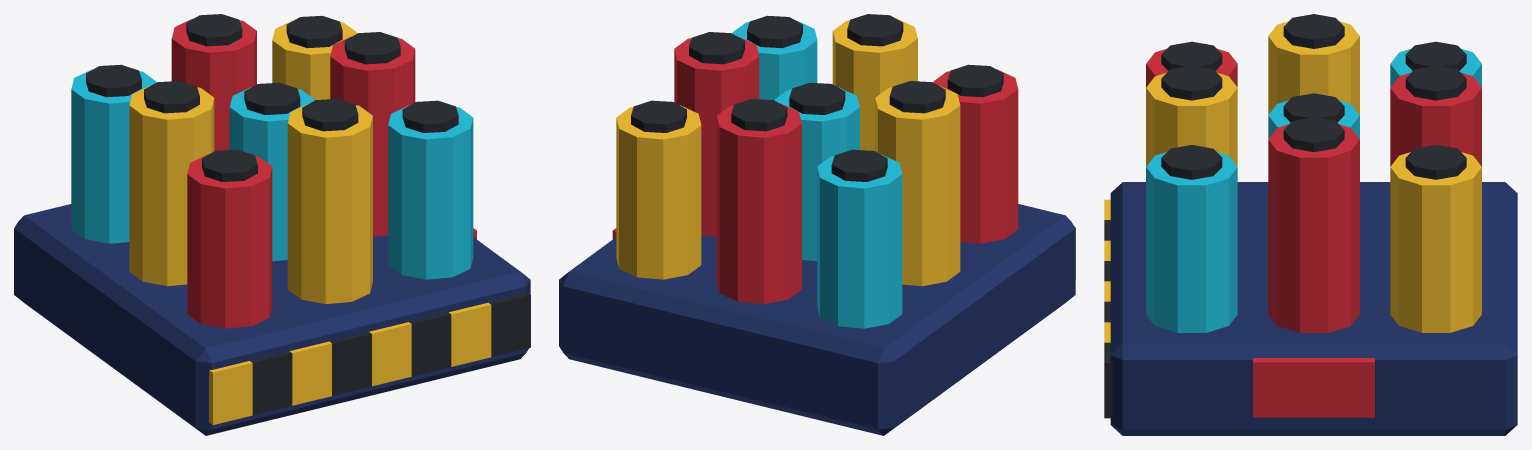
File: FireworkLauncher.fbx
The picture shows the model from 3 angles, left to right: view 1: azimuth 30°, elevation 25°; view 2: azimuth 150°, elevation 25°; view 3: azimuth 270°, elevation 25°; orthographic projection. The views are drawn at different scales.
Parts seen in each view (by area): view 1: FireworkLauncher; view 2: FireworkLauncher; view 3: FireworkLauncher.
Boxes of the visible parts, x1,y1,x2,y2 form: FireworkLauncher: [14, 14, 530, 435]; FireworkLauncher: [559, 14, 1075, 435]; FireworkLauncher: [1104, 14, 1517, 435].
Bounding box in the file's own units: 4.1 × 3 × 4.06.
Materials: 1 (1 with a texture image).
